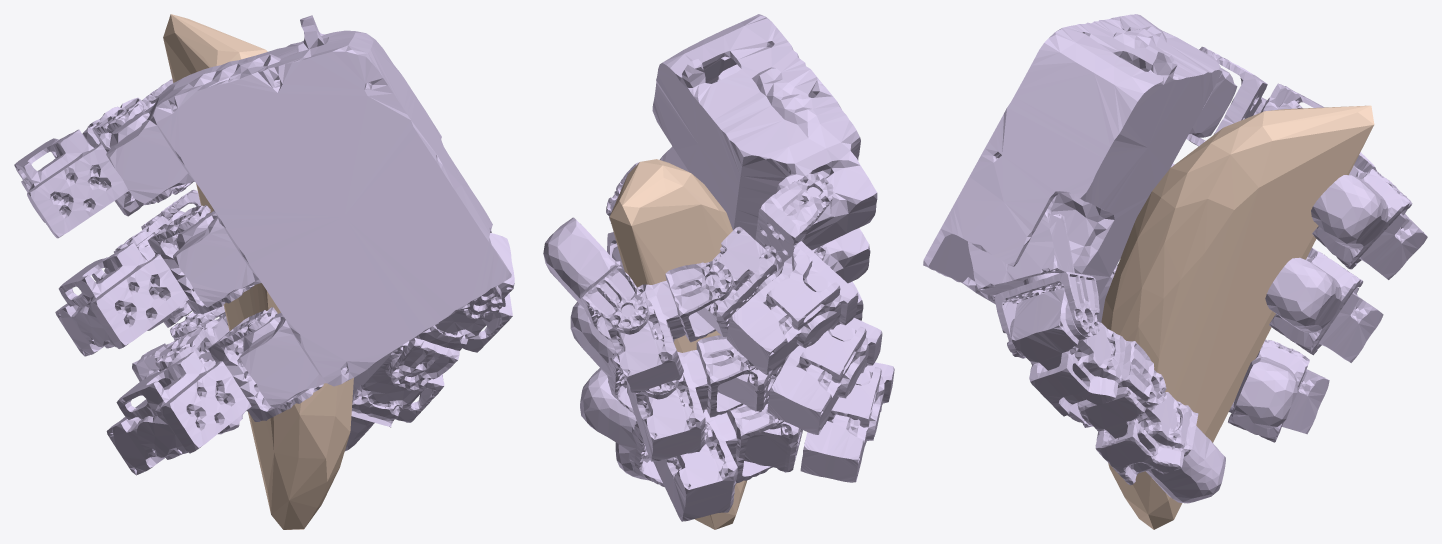
Rendered from 30641f2adfd235-final.glb.
3 renders of one model, left to right at view 1: azimuth 30°, elevation 25°; view 2: azimuth 150°, elevation 25°; view 3: azimuth 270°, elevation 25°, orthographic. The views are drawn at different scales.
Visible parts, largest first — view 1: LEAP_hand, world; view 2: LEAP_hand, world; view 3: LEAP_hand, world.
Part boxes in pixels (<box>): LEAP_hand: <box>14,15,514,475</box>; world: <box>163,14,353,529</box>; LEAP_hand: <box>543,14,894,521</box>; world: <box>609,159,747,529</box>; LEAP_hand: <box>923,14,1427,503</box>; world: <box>1101,105,1374,529</box>.
Size of the model in its own units: 0.1591 by 0.2114 by 0.1954.
